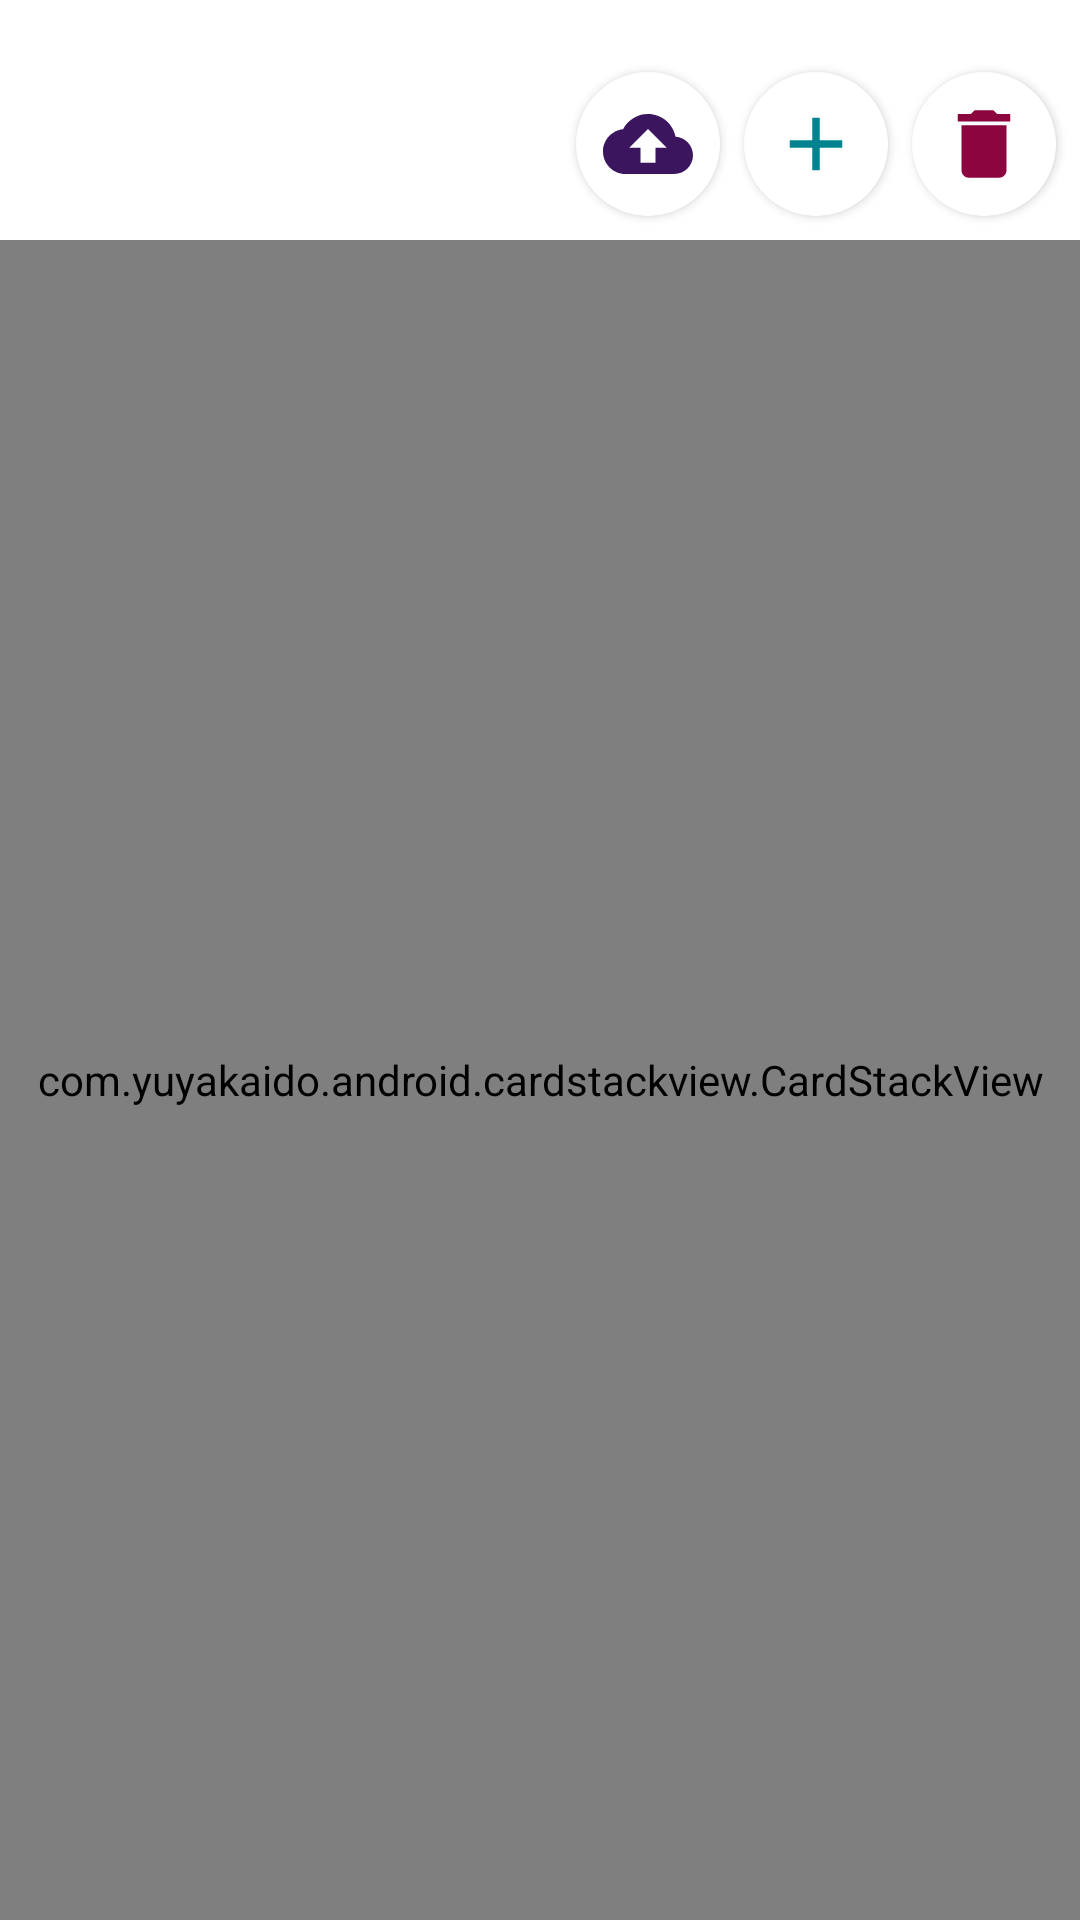

Locate icon controls on the screen. Image size 1080*1920, boxes as (x1, y1, x2, y2).
add: (789, 117, 843, 171)
backup: (603, 114, 693, 174)
delete: (957, 110, 1056, 207)
